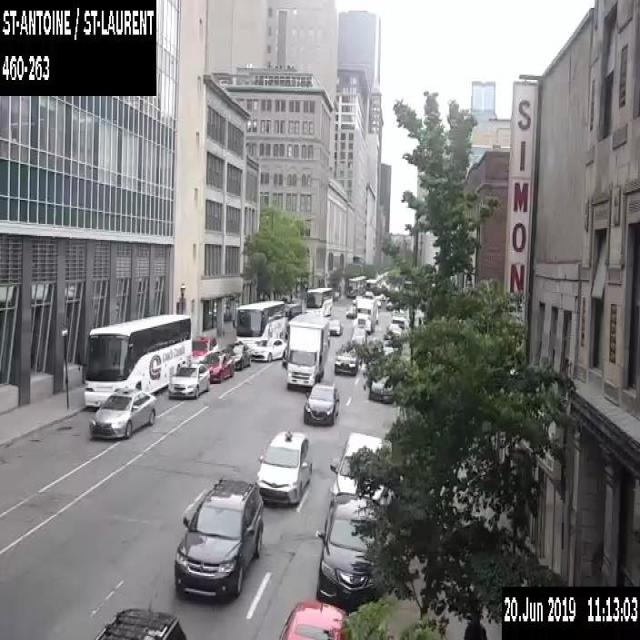bus: (84, 312, 192, 405), (232, 298, 284, 348), (304, 286, 332, 315), (346, 274, 366, 296)
pedestrian: (462, 618, 488, 638)
vehicle: (173, 478, 263, 596), (316, 491, 390, 612), (330, 431, 393, 517), (256, 428, 311, 502), (88, 388, 156, 438), (93, 604, 189, 639), (285, 312, 329, 388), (277, 601, 352, 639), (168, 361, 210, 399), (303, 382, 339, 423), (198, 351, 234, 381), (332, 348, 365, 375), (250, 337, 287, 361), (222, 340, 251, 369), (352, 298, 376, 332), (367, 374, 395, 402), (192, 335, 218, 361), (350, 327, 367, 344), (382, 338, 398, 354), (329, 319, 343, 334), (282, 339, 288, 366), (345, 305, 357, 318), (392, 325, 402, 337), (388, 322, 398, 333), (374, 294, 381, 307), (385, 300, 392, 309)
